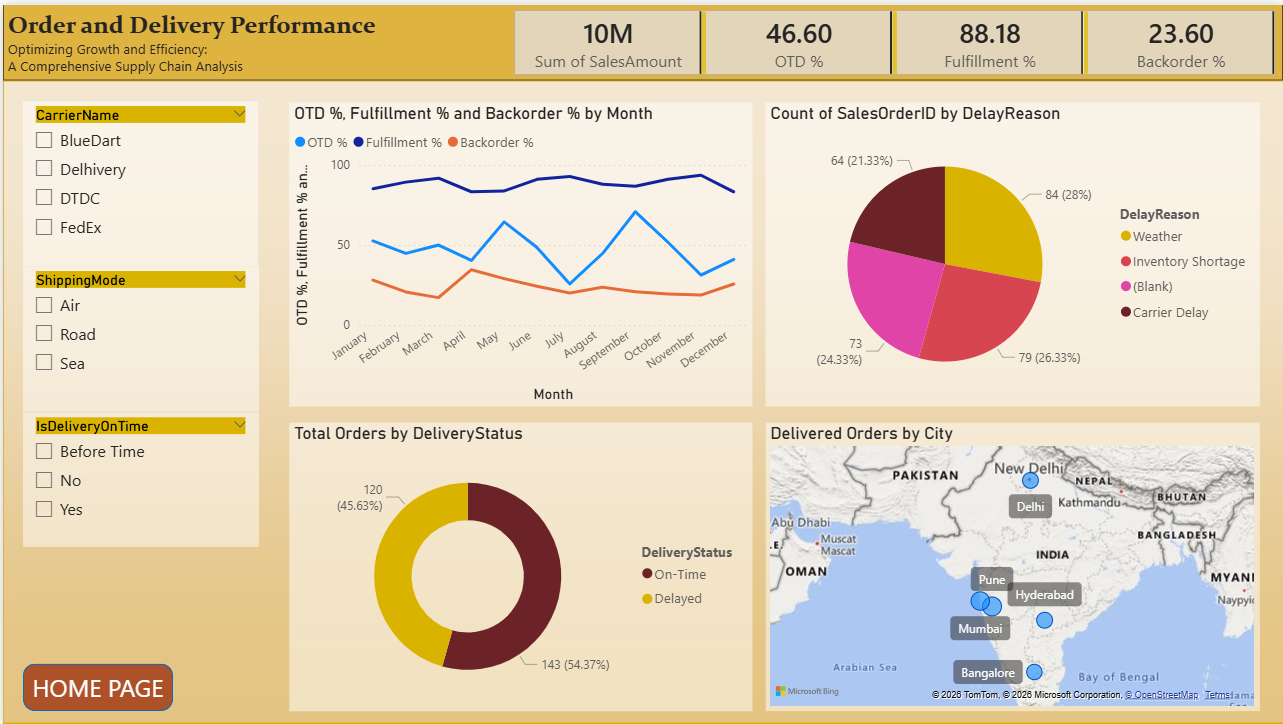

The dashboard page shown, as its layout file describes it:
{"tool":"powerbi","page":{"name":"Order and Del Performance","canvas":[1280,720],"ordinal":2},"visuals":[{"type":"textbox","box":[0,0,1280,75],"z":0},{"type":"cardVisual","fields":{"Data":["Sum(Fact_SalesOrders.SalesAmount)","DelayReason.OTD %","DelayReason.Fulfillment %","DelayReason.Backorder %"]},"box":[505.7,0,774.3,75.7],"z":1000},{"type":"pieChart","fields":{"Category":["Fact_Shipments.DelayReason"],"Y":["CountNonNull(Fact_Shipments.SalesOrderID)"]},"box":[762.9,97.1,494.3,304.3],"z":2000},{"type":"slicer","fields":{"Values":["Fact_Shipments.CarrierName"]},"box":[20,96.7,235.6,164.4],"z":3000},{"type":"slicer","fields":{"Values":["Fact_Shipments.ShippingMode"]},"box":[20,261.4,235.7,145.7],"z":4000},{"type":"lineChart","fields":{"Category":["Dim_Date.Date.Variation.Date Hierarchy.Month"],"Y":["DelayReason.OTD %","DelayReason.Fulfillment %","DelayReason.Backorder %"]},"box":[285.7,97.1,462.9,304.3],"z":5000},{"type":"slicer","fields":{"Values":["Fact_SalesOrders.IsDeliveryOnTime"]},"box":[20,407.1,235.7,134.3],"z":6000},{"type":"donutChart","fields":{"Category":["DelayReason.DeliveryStatus"],"Y":["DelayReason.Total Orders"]},"box":[286.3,417.4,463.2,288.9],"z":7000},{"type":"map","fields":{"Category":["Dim_Customer.City"],"Size":["DelayReason.Delivered Orders"]},"box":[762.9,417.1,494.3,288.6],"z":8000},{"type":"shape","box":[20,658.6,150,47.1],"z":9000}]}

Visuals, with their boxes in screenshot pixels (x1, y1, x2, y2), scaled from the page's 1280x720 canvas onto the 1283x724 screenshot:
textbox: [x1=0, y1=0, x2=1282, y2=75]
cardVisual - Sum(Fact_SalesOrders.SalesAmount) x DelayReason.OTD %: [x1=507, y1=0, x2=1282, y2=76]
pieChart - Fact_Shipments.DelayReason x CountNonNull(Fact_Shipments.SalesOrderID): [x1=765, y1=98, x2=1260, y2=404]
slicer - Fact_Shipments.CarrierName: [x1=20, y1=97, x2=256, y2=263]
slicer - Fact_Shipments.ShippingMode: [x1=20, y1=263, x2=256, y2=409]
lineChart - Dim_Date.Date.Variation.Date Hierarchy.Month x DelayReason.OTD %: [x1=286, y1=98, x2=750, y2=404]
slicer - Fact_SalesOrders.IsDeliveryOnTime: [x1=20, y1=409, x2=256, y2=544]
donutChart - DelayReason.DeliveryStatus x DelayReason.Total Orders: [x1=287, y1=420, x2=751, y2=710]
map - Dim_Customer.City x DelayReason.Delivered Orders: [x1=765, y1=419, x2=1260, y2=710]
shape: [x1=20, y1=662, x2=170, y2=710]
